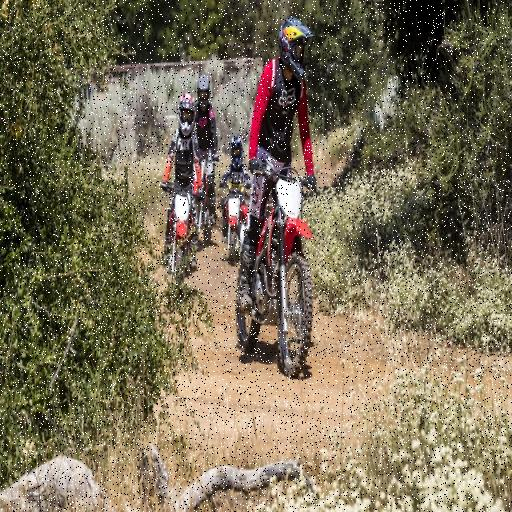Helmet: (279, 20, 311, 80), (173, 89, 198, 140), (230, 135, 246, 165), (196, 79, 210, 111)
Motor: (232, 161, 318, 382), (159, 182, 199, 296), (223, 191, 245, 254)
